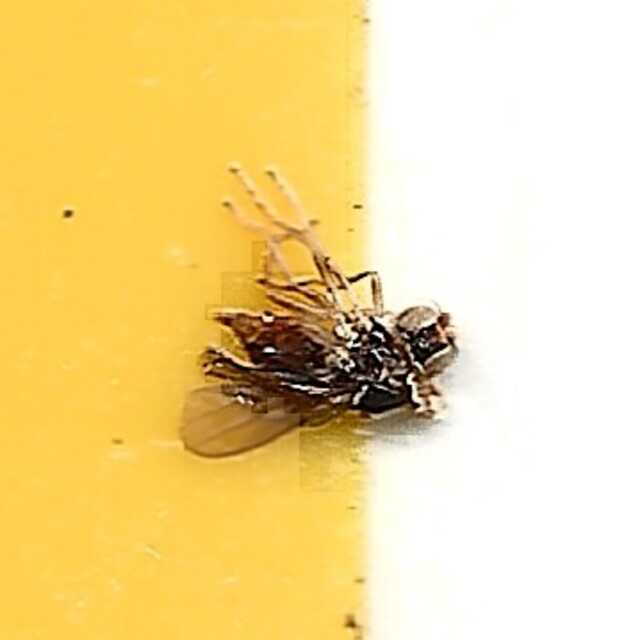Brachycera: (178, 180, 462, 460)
